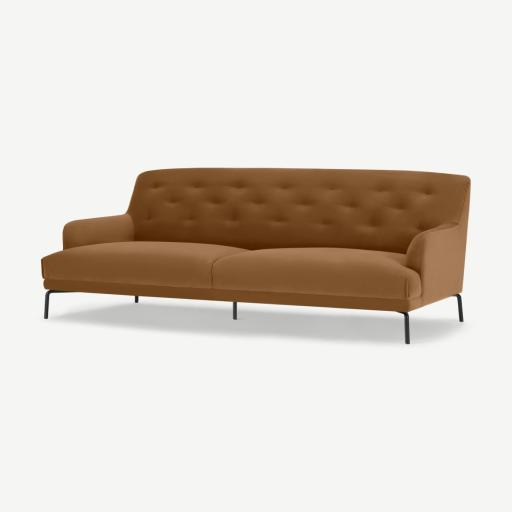back_cushion: (130, 168, 469, 254)
left_arm: (406, 185, 469, 306)
legs: (43, 290, 71, 319), (398, 312, 409, 344), (455, 294, 462, 321), (232, 302, 237, 319), (135, 296, 138, 303)
right_arm: (63, 214, 134, 249)
seat_cushion: (43, 242, 420, 298)
two-seater: (0, 0, 511, 512)
